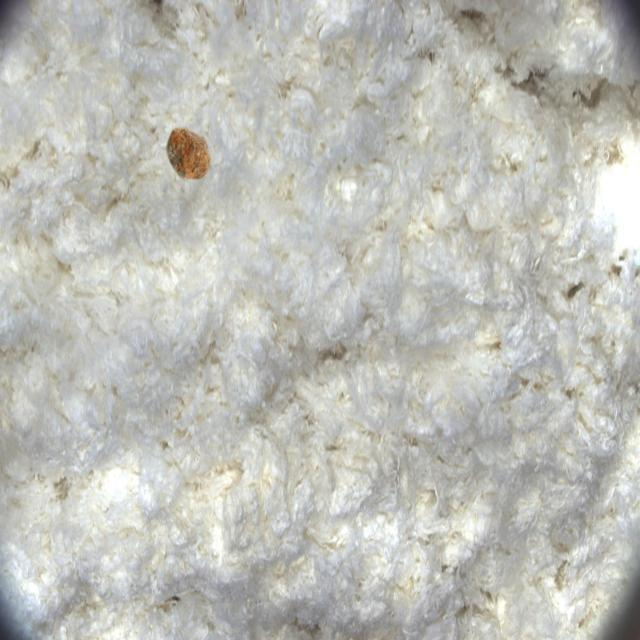dust: (147, 104, 237, 206)
